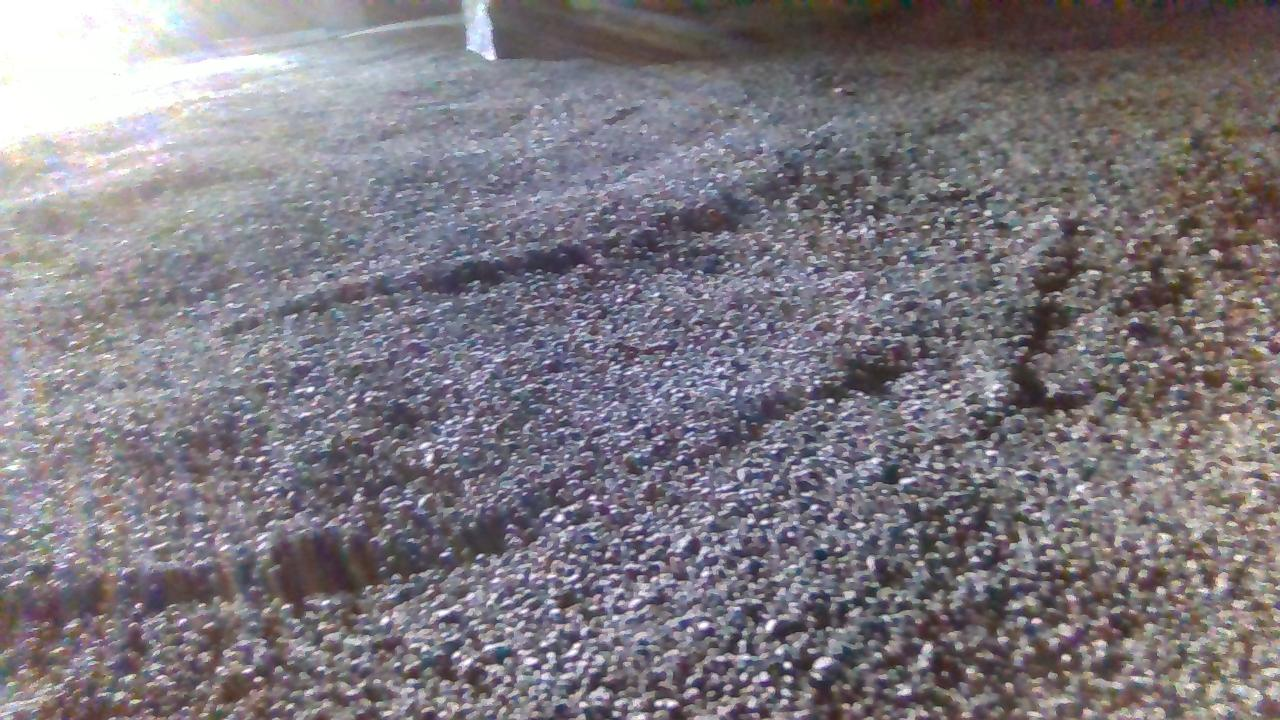rock: (467, 0, 578, 59)
